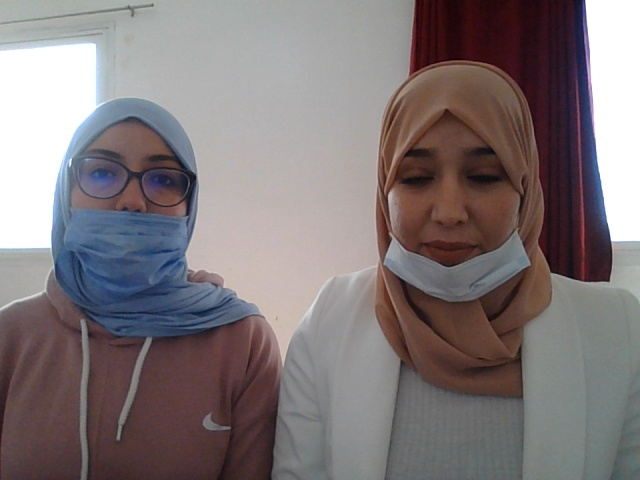mask_weared_incorrect: (353, 68, 557, 301), (59, 114, 208, 355)
